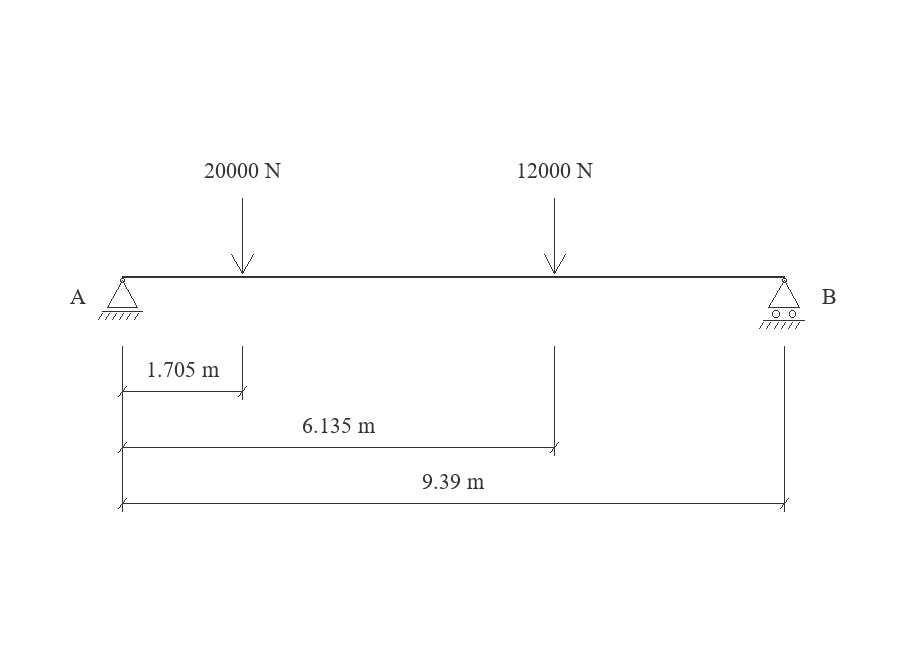pin_support: (98, 278, 143, 320)
point_load: (231, 198, 254, 274), (544, 198, 566, 274)
roller_support: (759, 278, 805, 329)
